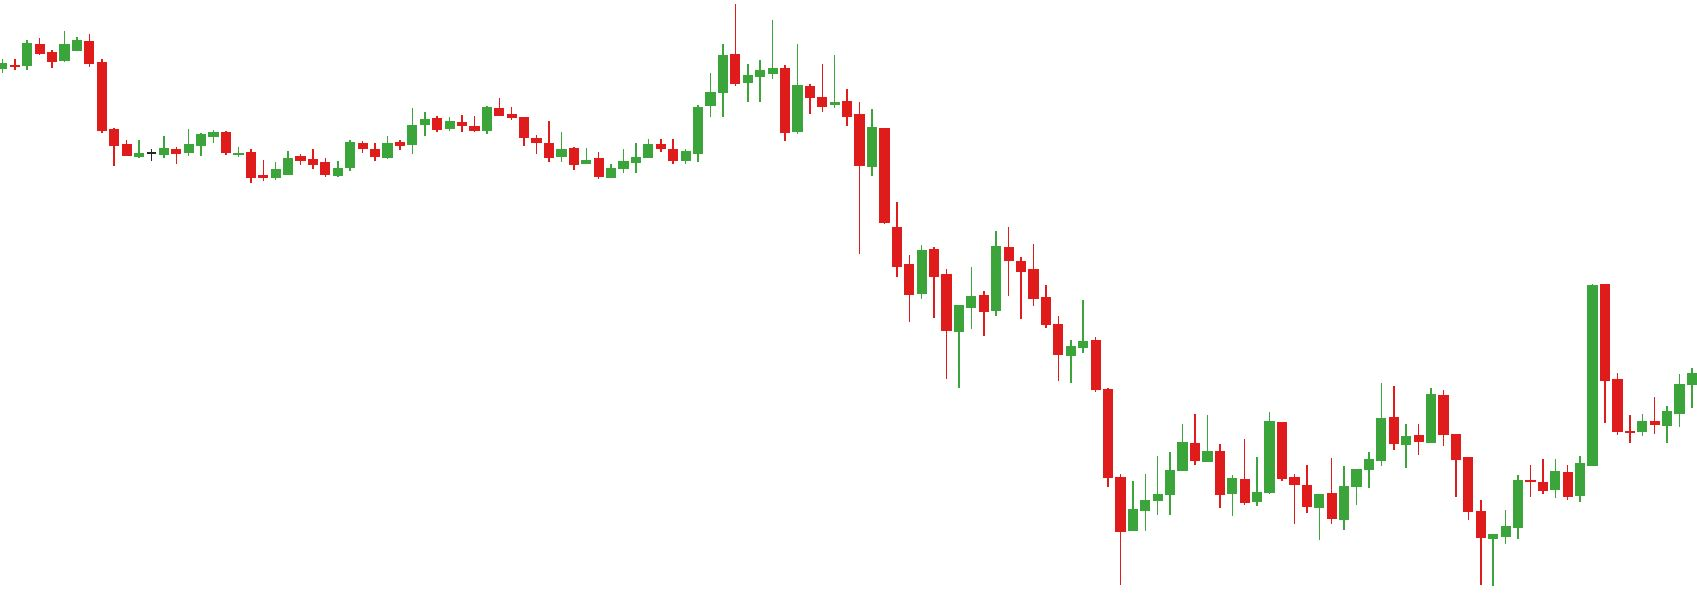buy: (1316, 445, 1499, 591)
sell: (917, 228, 1014, 313)
